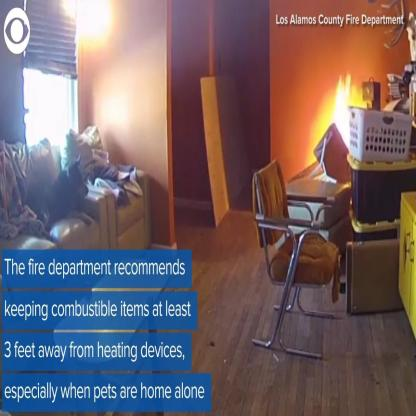fire: (335, 68, 367, 154)
